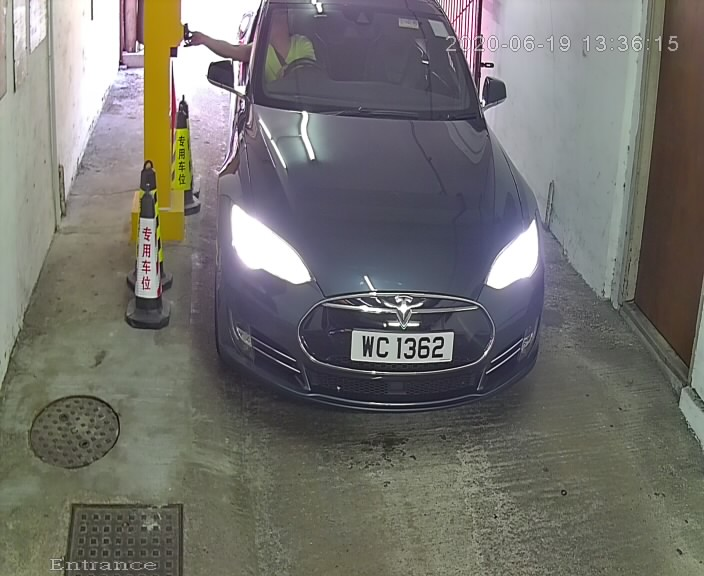privatecar: (194, 3, 560, 416)
